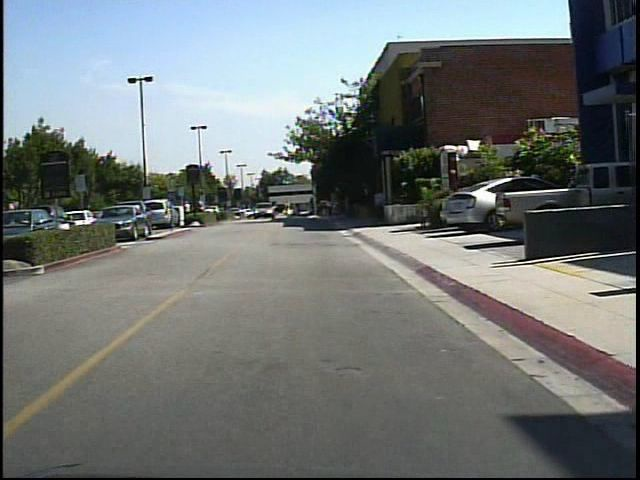person: (179, 194, 195, 225), (280, 196, 295, 223)
